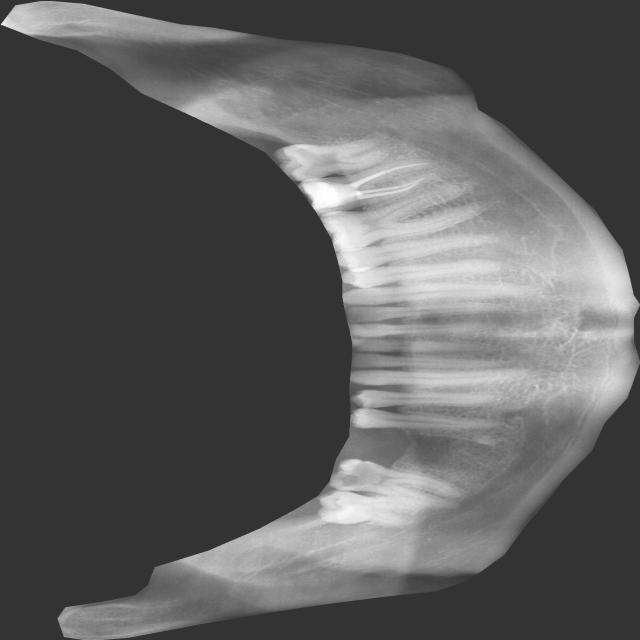mandibula: (1, 0, 640, 640)
